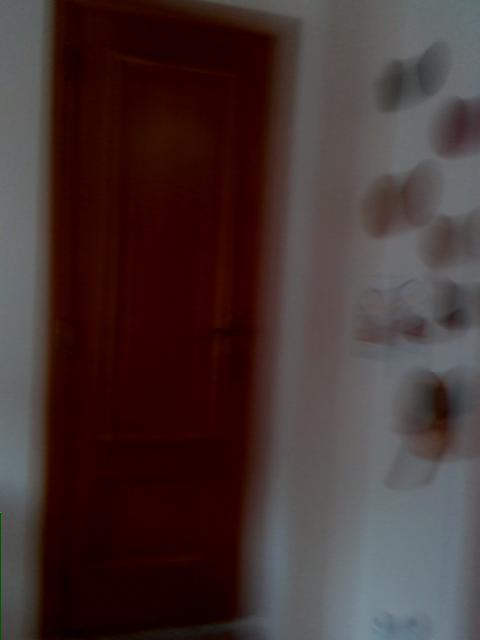closed_door: (42, 2, 300, 638)
